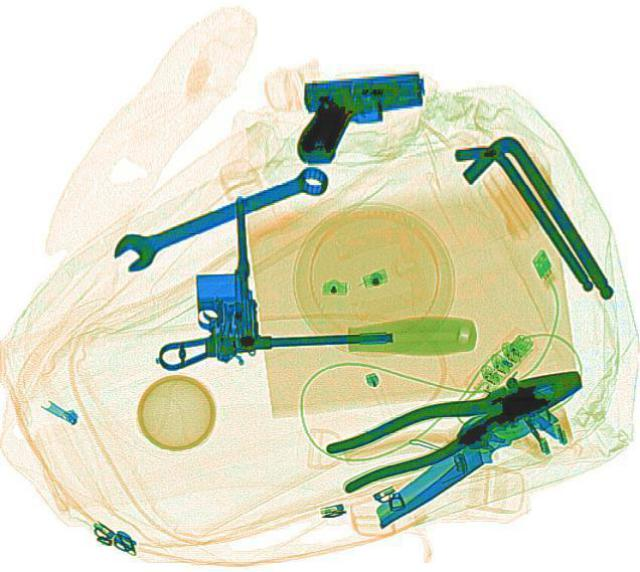Gun: (142, 192, 262, 368), (295, 69, 425, 162)
Pliers: (317, 351, 595, 494)
Wrench: (100, 154, 336, 276)
